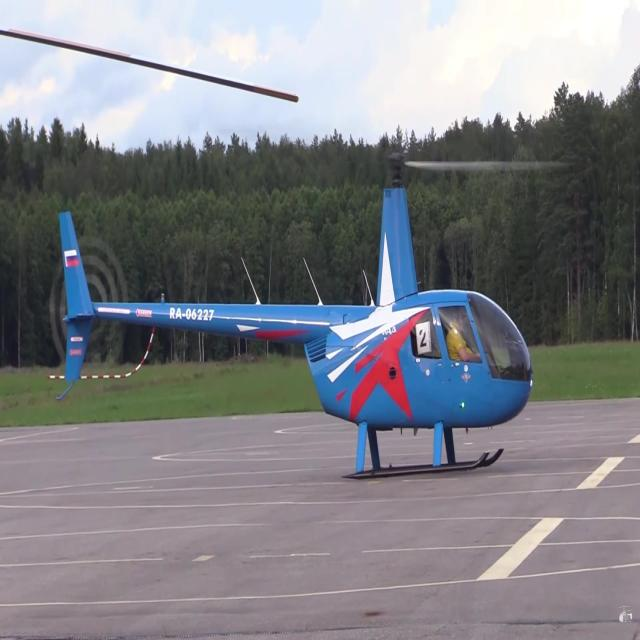CIV_HELO: (55, 150, 536, 483)
